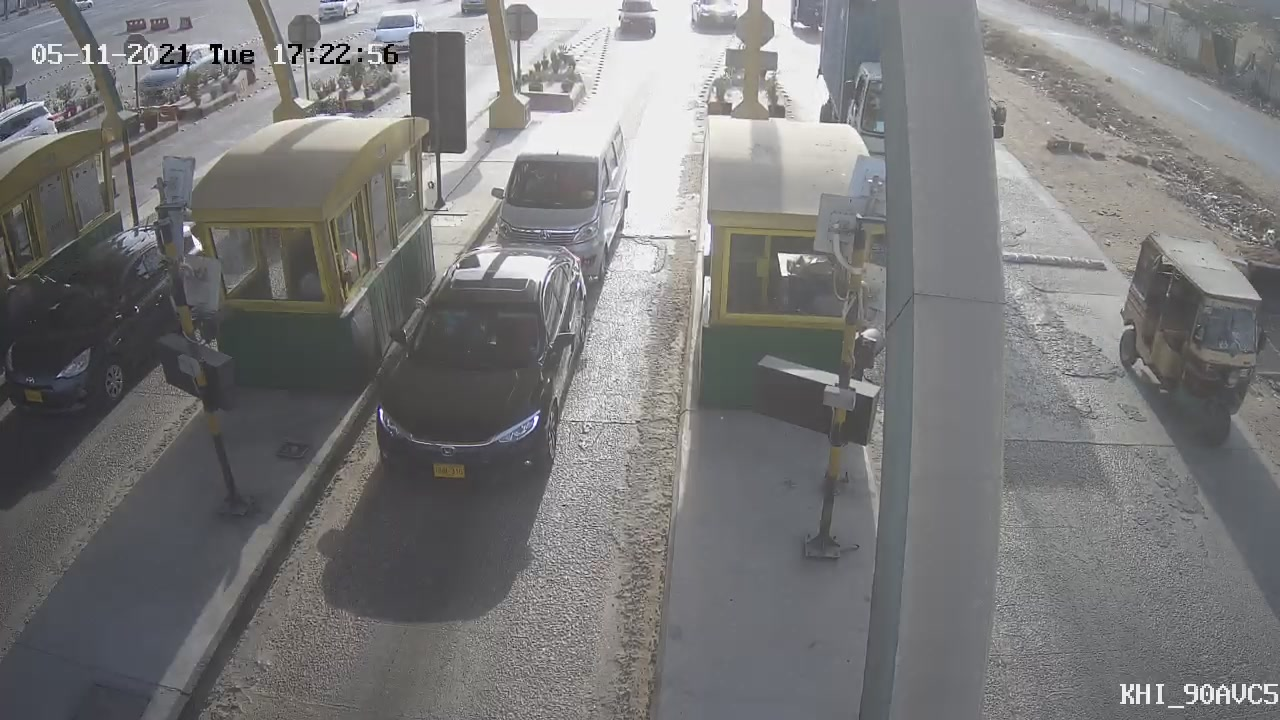F1: (352, 231, 589, 497), (469, 98, 639, 287)
